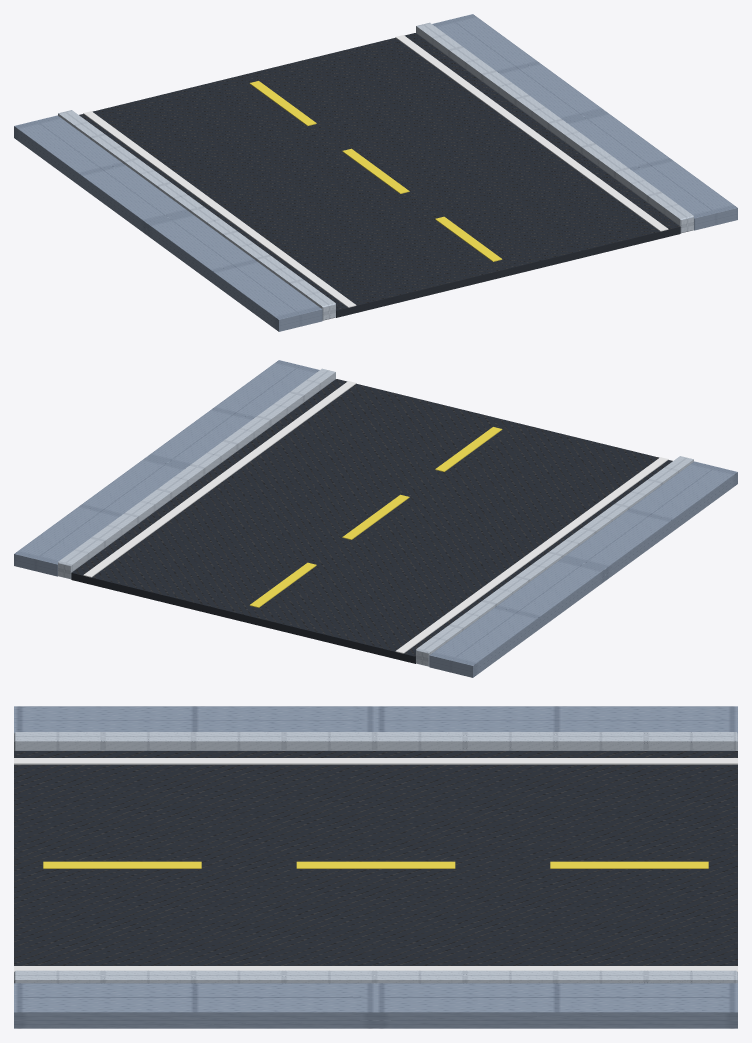
Rendered from road_straight.glb.
The picture shows the model from 3 angles, top to bottom: view 1: azimuth 30°, elevation 25°; view 2: azimuth 150°, elevation 25°; view 3: azimuth 270°, elevation 25°; orthographic projection. The views are drawn at different scales.
Visible parts, largest first — view 1: road_straight; view 2: road_straight; view 3: road_straight.
Boxes of the visible parts, left/top/right/bottom form: road_straight: left=14, top=14, right=737, bottom=331; road_straight: left=14, top=360, right=737, bottom=677; road_straight: left=14, top=706, right=737, bottom=1028.
Size of the model in its own units: 8 by 0.24 by 8.
Materials: 5 (3 with a texture image).
